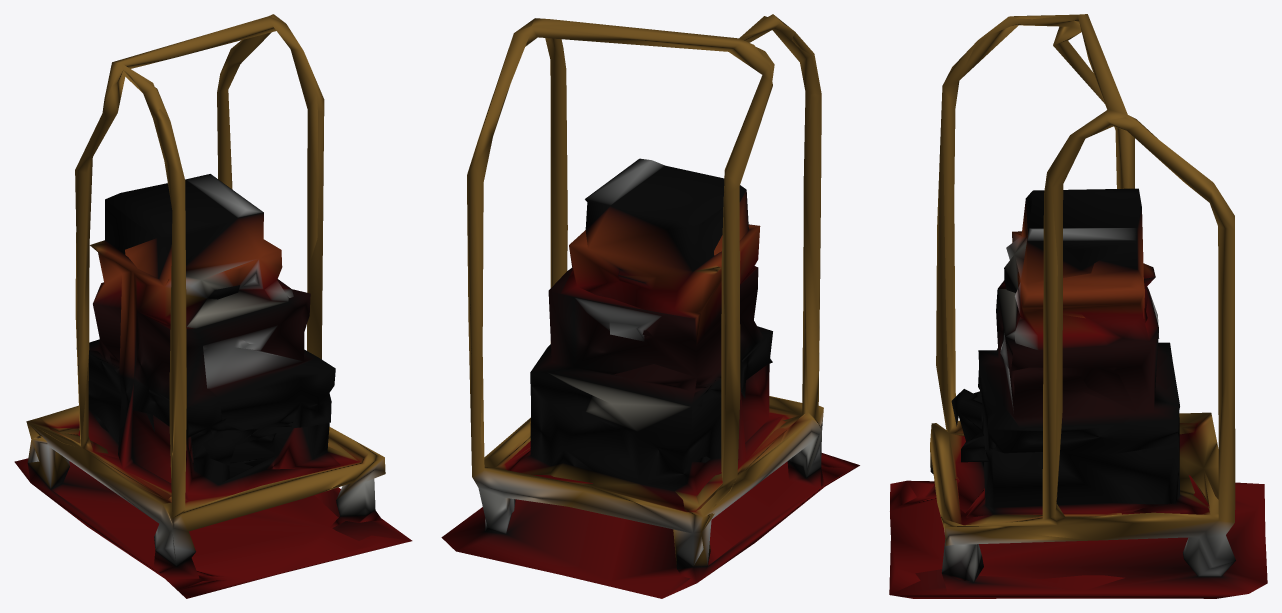
The model's file is gen3d-luggage-cart-lod1.glb.
3 renders of one model, left to right at view 1: azimuth 30°, elevation 25°; view 2: azimuth 150°, elevation 25°; view 3: azimuth 270°, elevation 25°, orthographic. The views are drawn at different scales.
Visible parts, largest first — view 1: part_0; view 2: part_0; view 3: part_0.
Boxes of the visible parts, box(x1,y1,x2,y2) form: part_0: box(14, 14, 412, 598); part_0: box(441, 14, 859, 598); part_0: box(889, 14, 1267, 598).
Bounding box in the file's own units: 0.5182 × 0.9952 × 0.7058.
